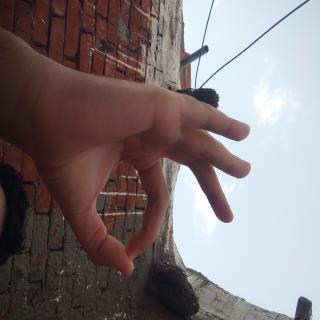Space: (41, 83, 210, 320)
